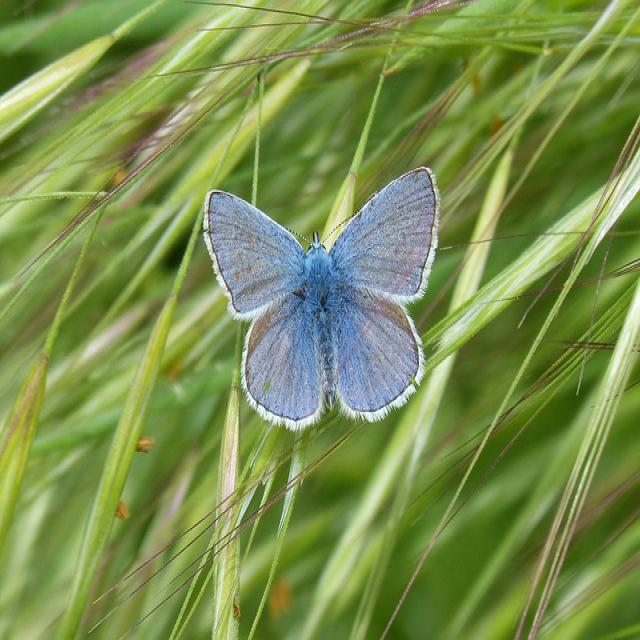butterfly: (200, 167, 440, 433)
